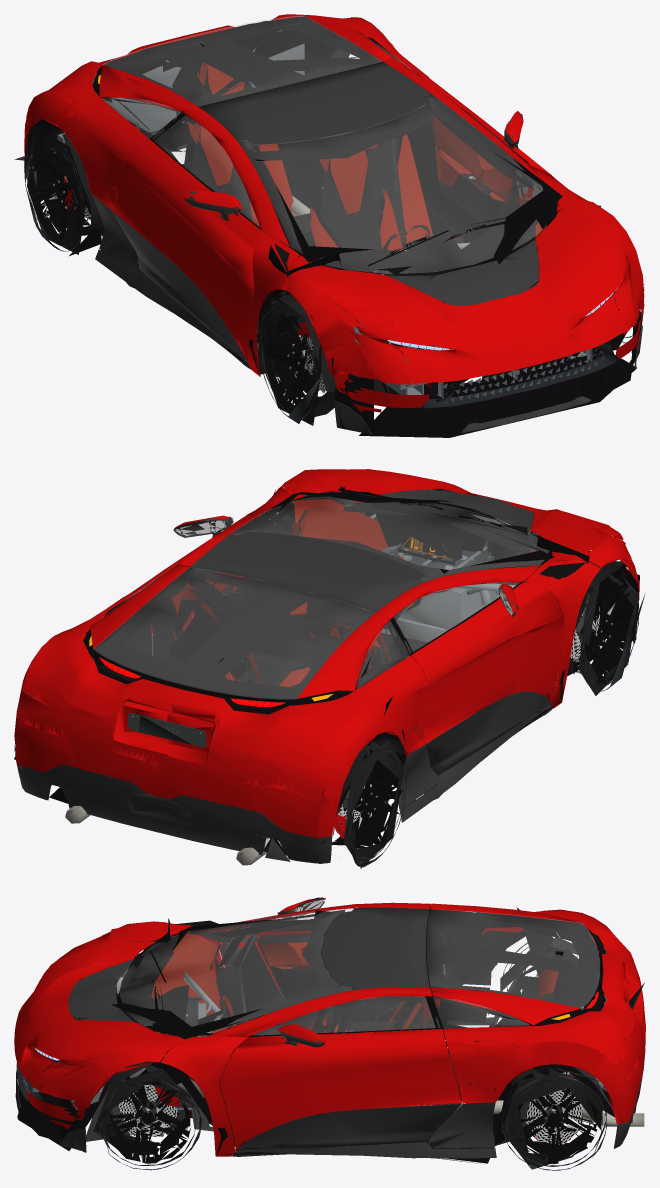
The model's file is coupe-parked.glb.
The picture shows the model from 3 angles, top to bottom: view 1: azimuth 30°, elevation 25°; view 2: azimuth 150°, elevation 25°; view 3: azimuth 270°, elevation 25°; orthographic projection. The views are drawn at different scales.
Visible parts, largest first — view 1: glass_BodyWindshield, panel_hood.001, glass_BodyRearwindow, panel_BodyDoorRColor1, panel_BodyRoofPanel, BodyWindshieldGasket, panel_rear_quarter_L, InteriorFloor, panel_front_fender_L, InteriorSeatsColor1, InteriorSeatsColor2, panel_BodyPillars (+33 smaller); view 2: glass_BodyRearwindow, panel_rear_quarter_L, panel_BodyPanelsColor2, panel_BodyDoorRColor1, glass_BodyWindshield, panel_rear_quarter_R, panel_bumper_rear.001, panel_BodyRoofPanel, InteriorRearHatch, InteriorPillar, panel_BodyPillars, InteriorDashMid (+32 smaller); view 3: panel_BodyDoorLColor1, glass_BodyWindshield, panel_rear_quarter_R, glass_BodyRearwindow, panel_BodyRoofPanel, panel_hood.001, panel_BodyPillars, panel_BodyDoorLColor2, panel_BodyPanelsColor2, panel_front_fender_R, BodyWindshieldGasket, InteriorRearHatch (+35 smaller).
Part boxes in pixels (left/top/right/bottom): glass_BodyWindshield: left=238, top=94, right=542, bottom=273; panel_hood.001: left=343, top=217, right=626, bottom=384; glass_BodyRearwindow: left=103, top=16, right=381, bottom=106; panel_BodyDoorRColor1: left=112, top=139, right=260, bottom=361; panel_BodyRoofPanel: left=198, top=61, right=430, bottom=144; BodyWindshieldGasket: left=244, top=98, right=562, bottom=271; panel_rear_quarter_L: left=26, top=35, right=197, bottom=191; InteriorFloor: left=28, top=119, right=636, bottom=437; panel_front_fender_L: left=286, top=255, right=411, bottom=384; InteriorSeatsColor1: left=188, top=62, right=463, bottom=250; InteriorSeatsColor2: left=186, top=81, right=464, bottom=297; panel_BodyPillars: left=182, top=57, right=588, bottom=376; glass_BodyRearwindow: left=93, top=567, right=374, bottom=699; panel_rear_quarter_L: left=159, top=612, right=427, bottom=795; panel_BodyPanelsColor2: left=16, top=622, right=637, bottom=863; panel_BodyDoorRColor1: left=410, top=582, right=563, bottom=743; glass_BodyWindshield: left=230, top=494, right=548, bottom=581; panel_rear_quarter_R: left=17, top=564, right=189, bottom=762; panel_bumper_rear.001: left=14, top=711, right=425, bottom=838; panel_BodyRoofPanel: left=190, top=532, right=423, bottom=612; InteriorRearHatch: left=94, top=568, right=375, bottom=701; InteriorPillar: left=172, top=569, right=361, bottom=696; panel_BodyPillars: left=174, top=486, right=600, bottom=708; InteriorDashMid: left=341, top=497, right=529, bottom=584; panel_BodyDoorLColor1: left=219, top=1029, right=461, bottom=1150; glass_BodyWindshield: left=120, top=908, right=353, bottom=1033; panel_rear_quarter_R: left=430, top=971, right=644, bottom=1086; glass_BodyRearwindow: left=427, top=909, right=599, bottom=1008; panel_BodyRoofPanel: left=321, top=907, right=429, bottom=990; panel_hood.001: left=14, top=941, right=156, bottom=1085; panel_BodyPillars: left=160, top=902, right=432, bottom=1156; panel_BodyDoorLColor2: left=236, top=1103, right=461, bottom=1150; panel_BodyPanelsColor2: left=15, top=1017, right=644, bottom=1158; panel_front_fender_R: left=32, top=1031, right=193, bottom=1108; BodyWindshieldGasket: left=112, top=909, right=346, bottom=1039; InteriorRearHatch: left=426, top=909, right=597, bottom=1025.
Bounding box in the file's own units: 2.27 × 1.19 × 4.23.
28 materials, 5 textured.
